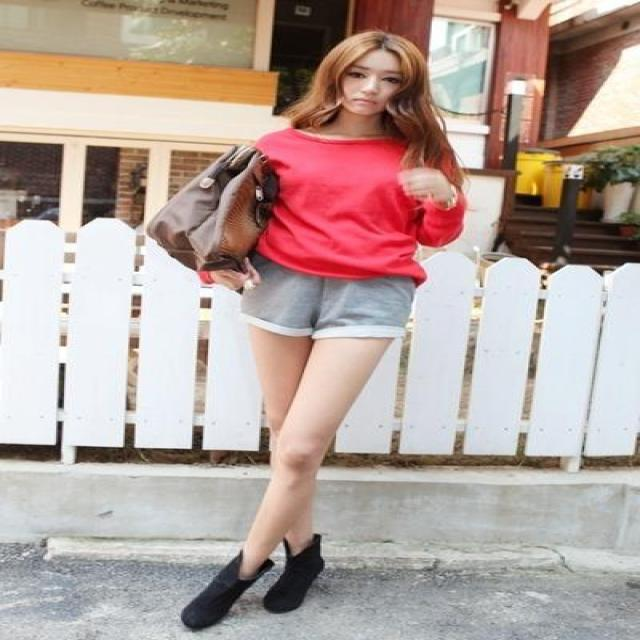bag: (147, 146, 285, 283)
shirt: (254, 120, 466, 280)
shoe: (181, 534, 323, 632)
shorts: (240, 262, 424, 344)
